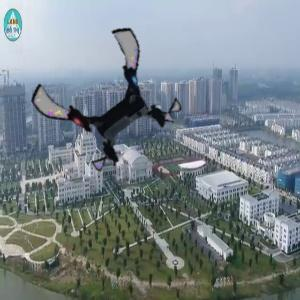drone: (43, 39, 171, 167)
